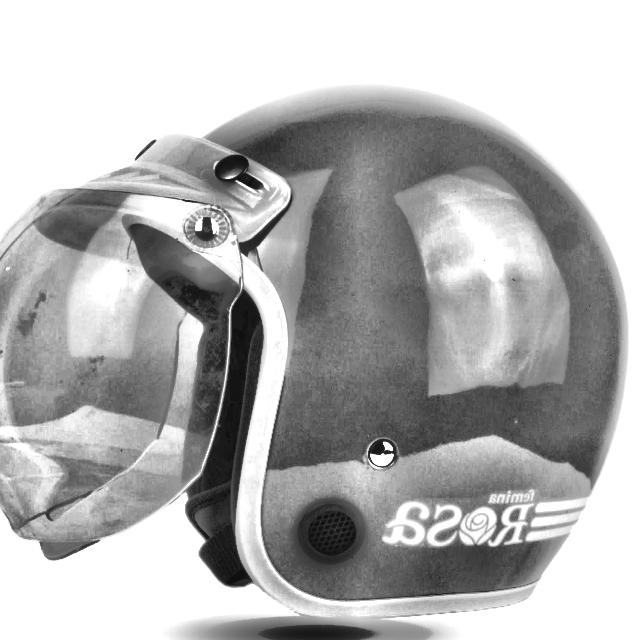Helmet: (0, 67, 640, 640)
